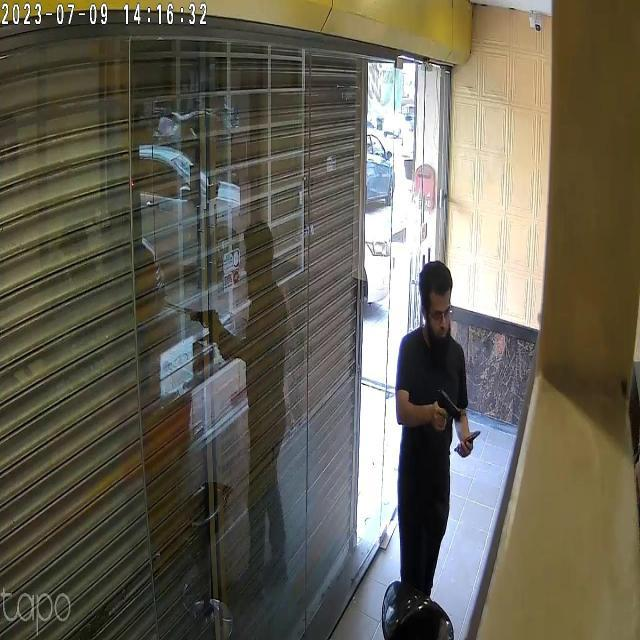Gun: (430, 383, 468, 428)
